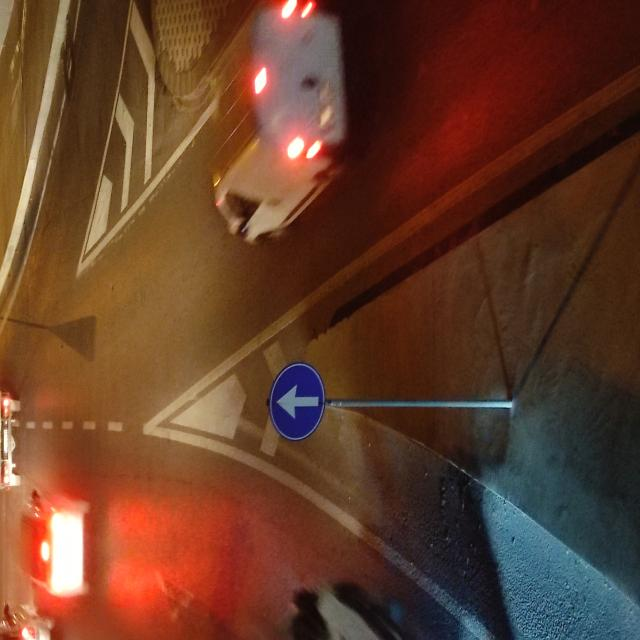Turn Left: (266, 364, 327, 432)
